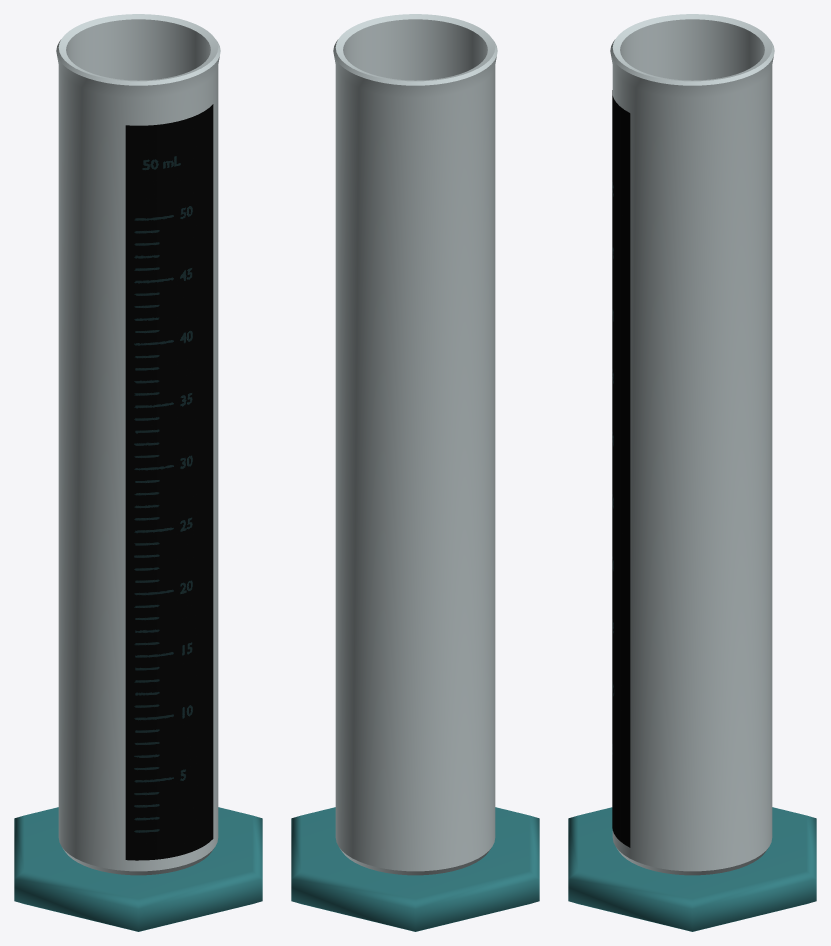
The model's file is VLAB_cylinder.fbx.
3 views of the same model, side by side, from view 1: azimuth 30°, elevation 25°; view 2: azimuth 150°, elevation 25°; view 3: azimuth 270°, elevation 25° (orthographic).
Parts seen in each view (by area): view 1: VLAB_cylinder_Body_VIS, VLAB_cylinder_Scale_VIS, VLAB_cylinder_Foot_VIS; view 2: VLAB_cylinder_Body_VIS, VLAB_cylinder_Foot_VIS; view 3: VLAB_cylinder_Body_VIS, VLAB_cylinder_Foot_VIS, VLAB_cylinder_Scale_VIS.
Boxes of the visible parts, box(x1,y1,x2,y2) form: VLAB_cylinder_Body_VIS: box(56, 14, 220, 875); VLAB_cylinder_Scale_VIS: box(125, 104, 213, 860); VLAB_cylinder_Foot_VIS: box(14, 807, 262, 931); VLAB_cylinder_Body_VIS: box(333, 14, 497, 875); VLAB_cylinder_Foot_VIS: box(291, 807, 539, 931); VLAB_cylinder_Body_VIS: box(610, 14, 774, 875); VLAB_cylinder_Foot_VIS: box(568, 807, 816, 931); VLAB_cylinder_Scale_VIS: box(612, 90, 630, 847).
Size of the model in its own units: 0.0471 by 0.15 by 0.0408.
